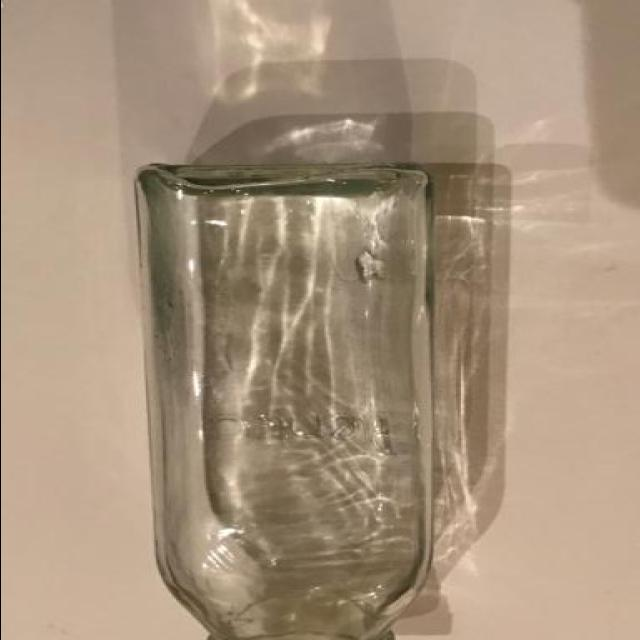glass: (92, 114, 515, 640)
